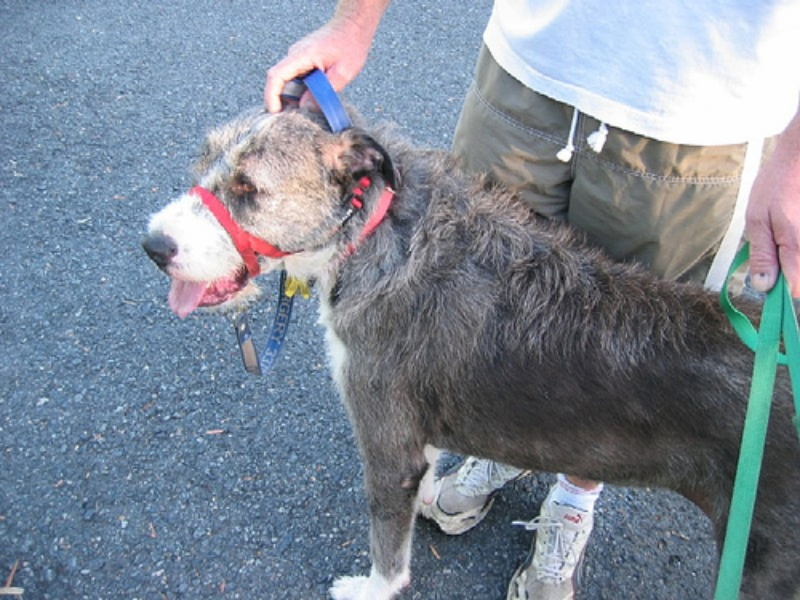person: (263, 1, 800, 600)
